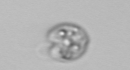plankton: (40, 19, 92, 65)
